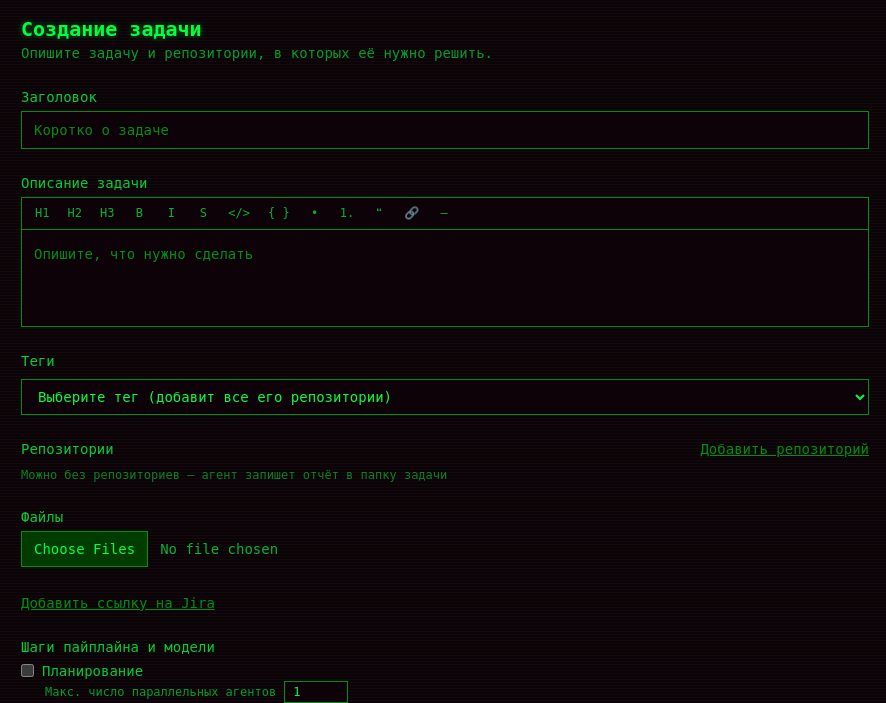
Test: NewIssue › Jira свёрнута по умолчанию: кнопка раскрывает поле
expect the field labelled "Ссылка на Jira" is not shown: met
Click the button "Добавить ссылку на Jira": click(118, 603) [21, 593, 215, 613]
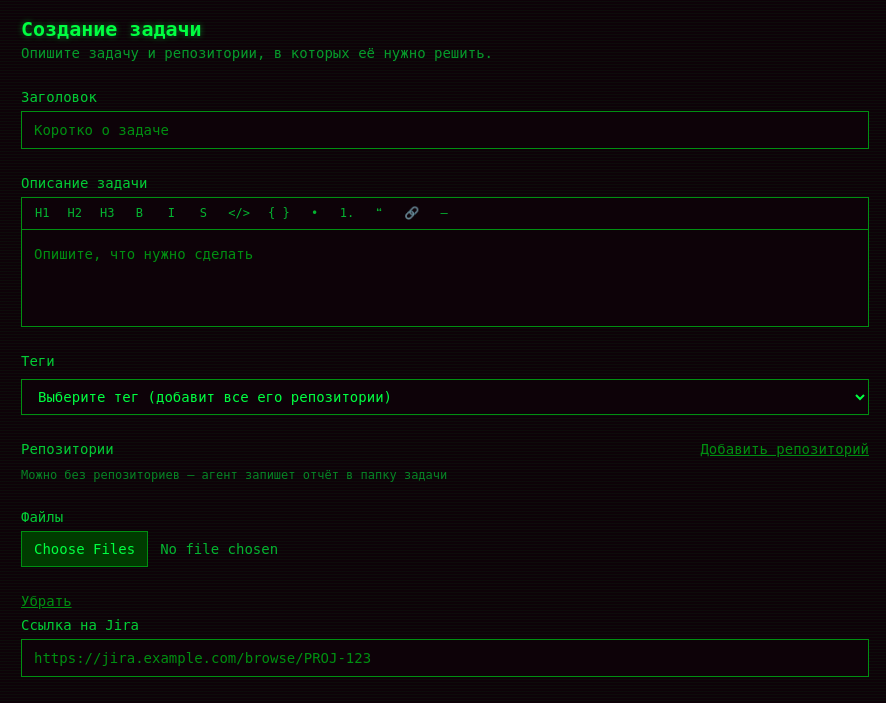
expect the field labelled "Ссылка на Jira" is shown: met, box [21, 639, 869, 677]
Click the button "Убрать": click(46, 601) [21, 591, 72, 611]
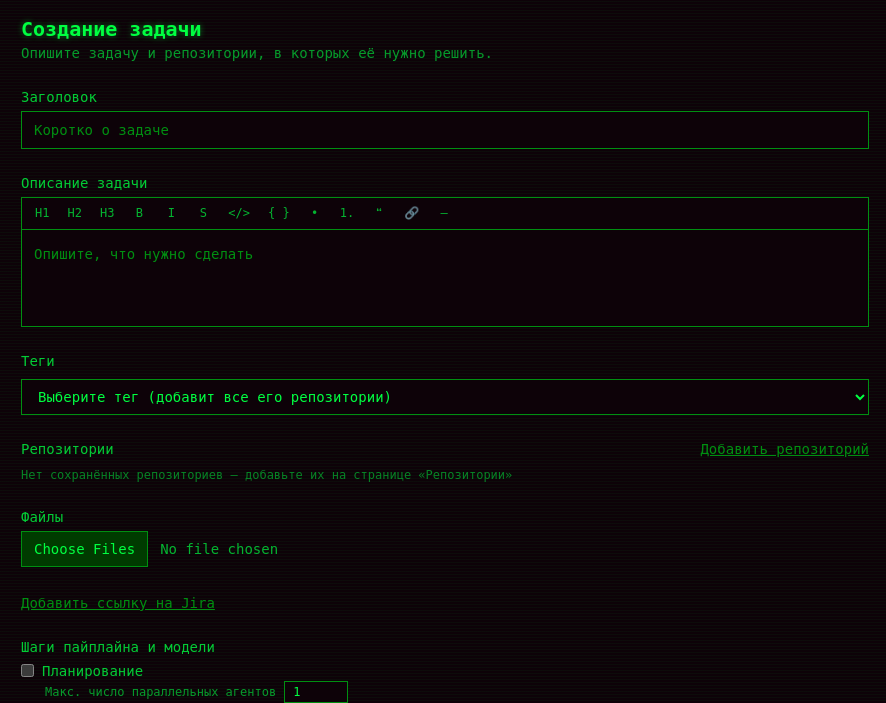
expect the label labelled "Ссылка на Jira" is gone: met
